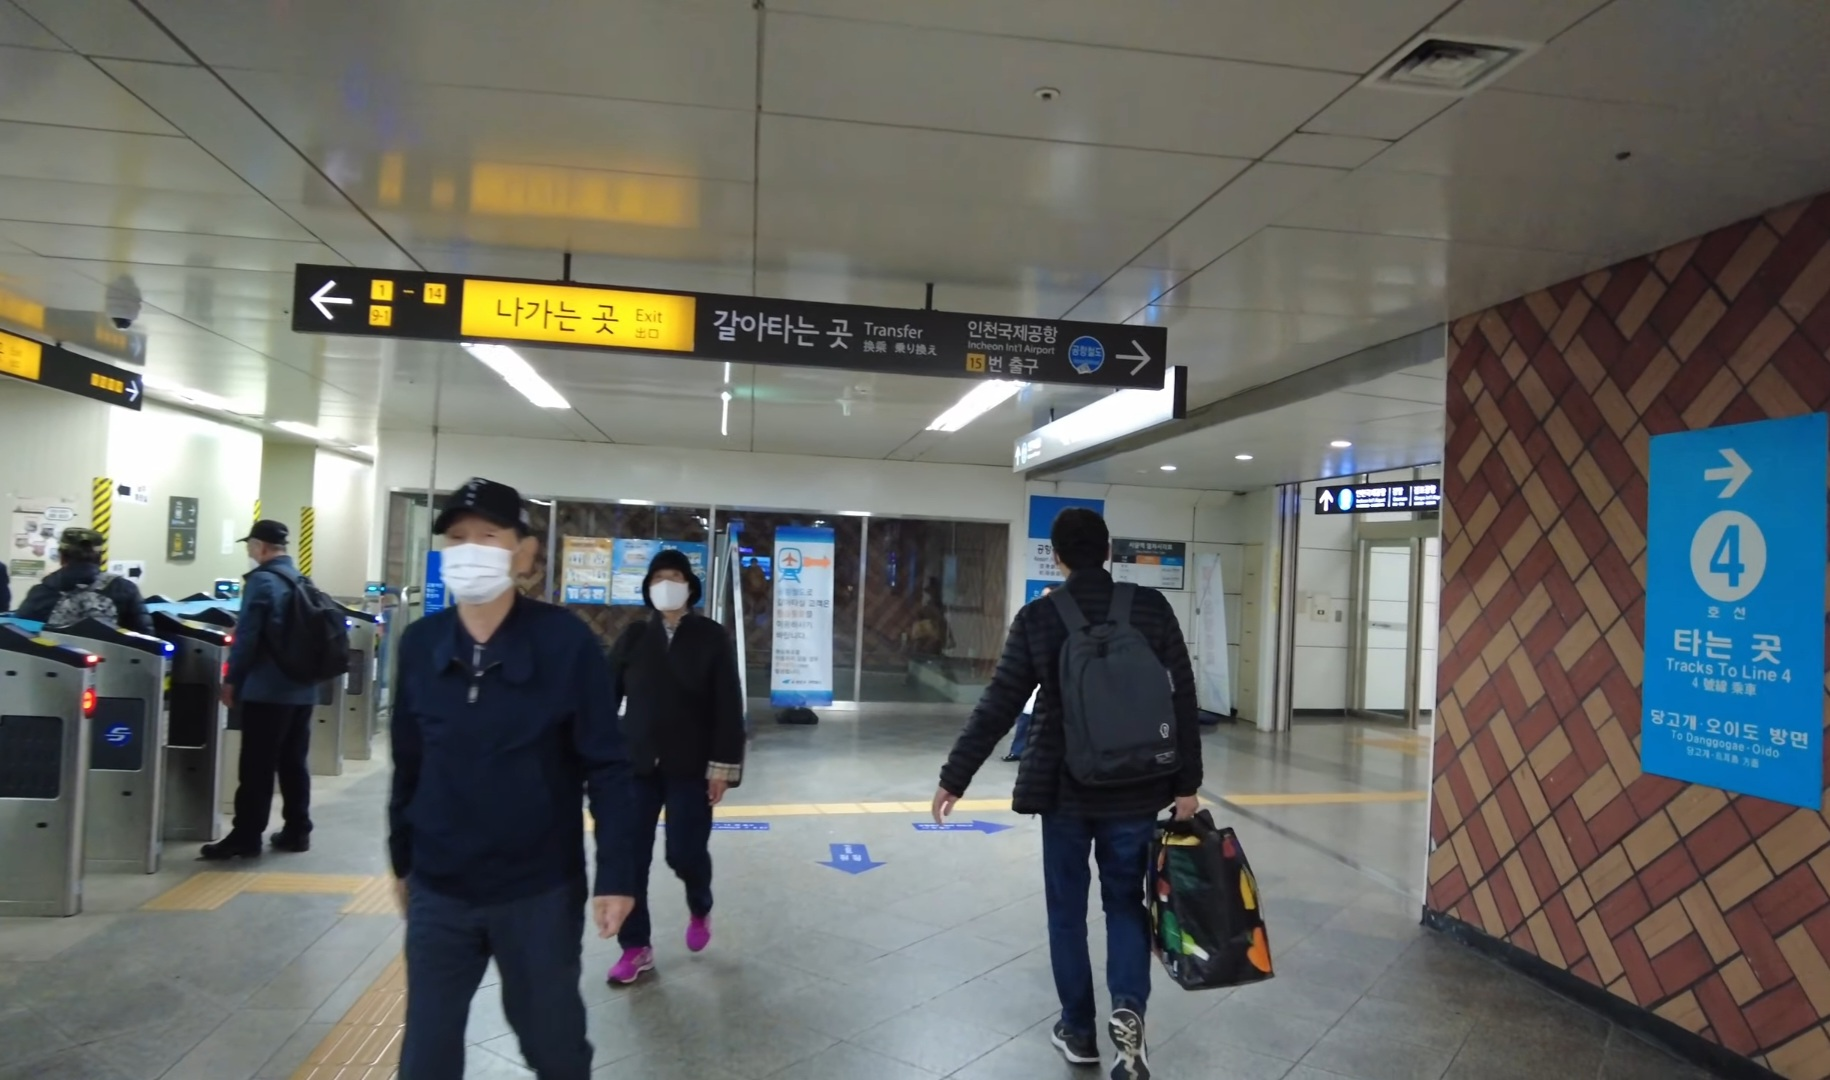signBoard: (288, 258, 1175, 392)
